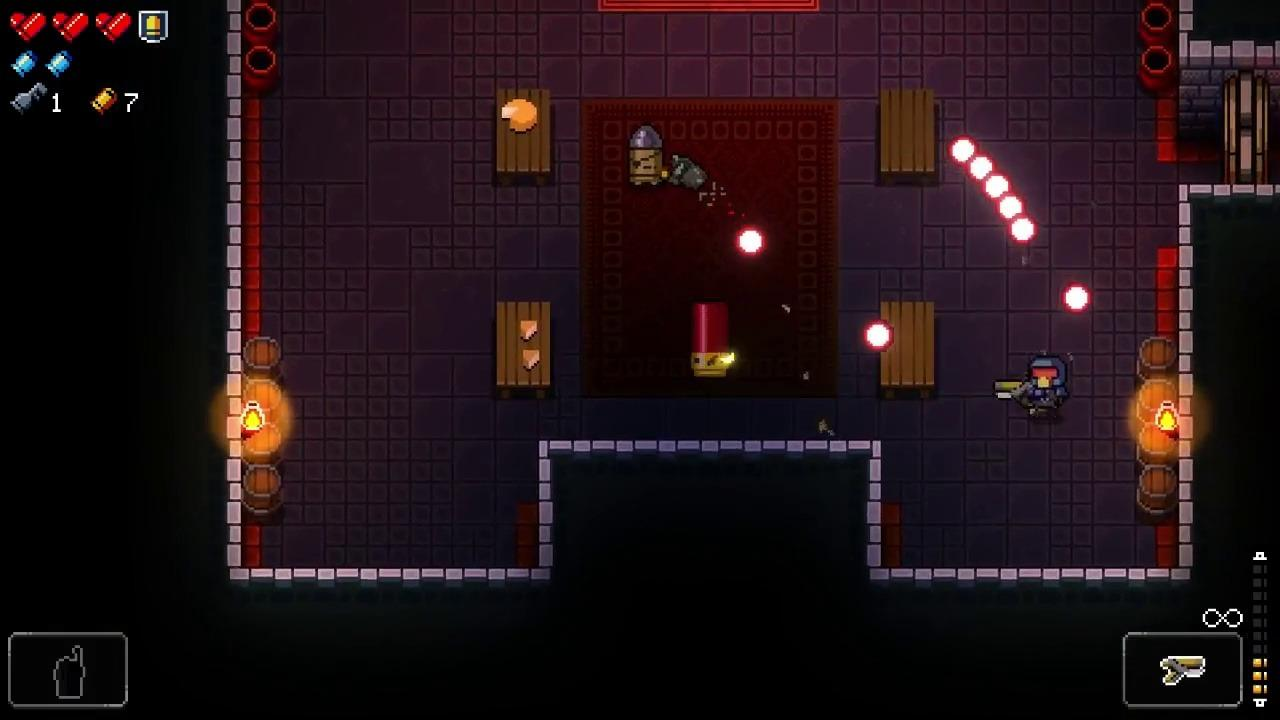bullet: (865, 320, 893, 351), (737, 225, 764, 256), (967, 153, 995, 182), (983, 173, 1012, 201), (997, 193, 1025, 222), (1063, 284, 1091, 312), (1009, 217, 1036, 245), (950, 136, 977, 164)
locked_door: (1225, 70, 1270, 184)
player: (1028, 355, 1068, 409)
red_shotgun_kin: (692, 301, 728, 379)
table: (496, 301, 551, 398), (880, 88, 935, 184), (881, 302, 936, 398), (497, 89, 549, 186)
veteran_bullet_kin: (629, 124, 662, 187)
